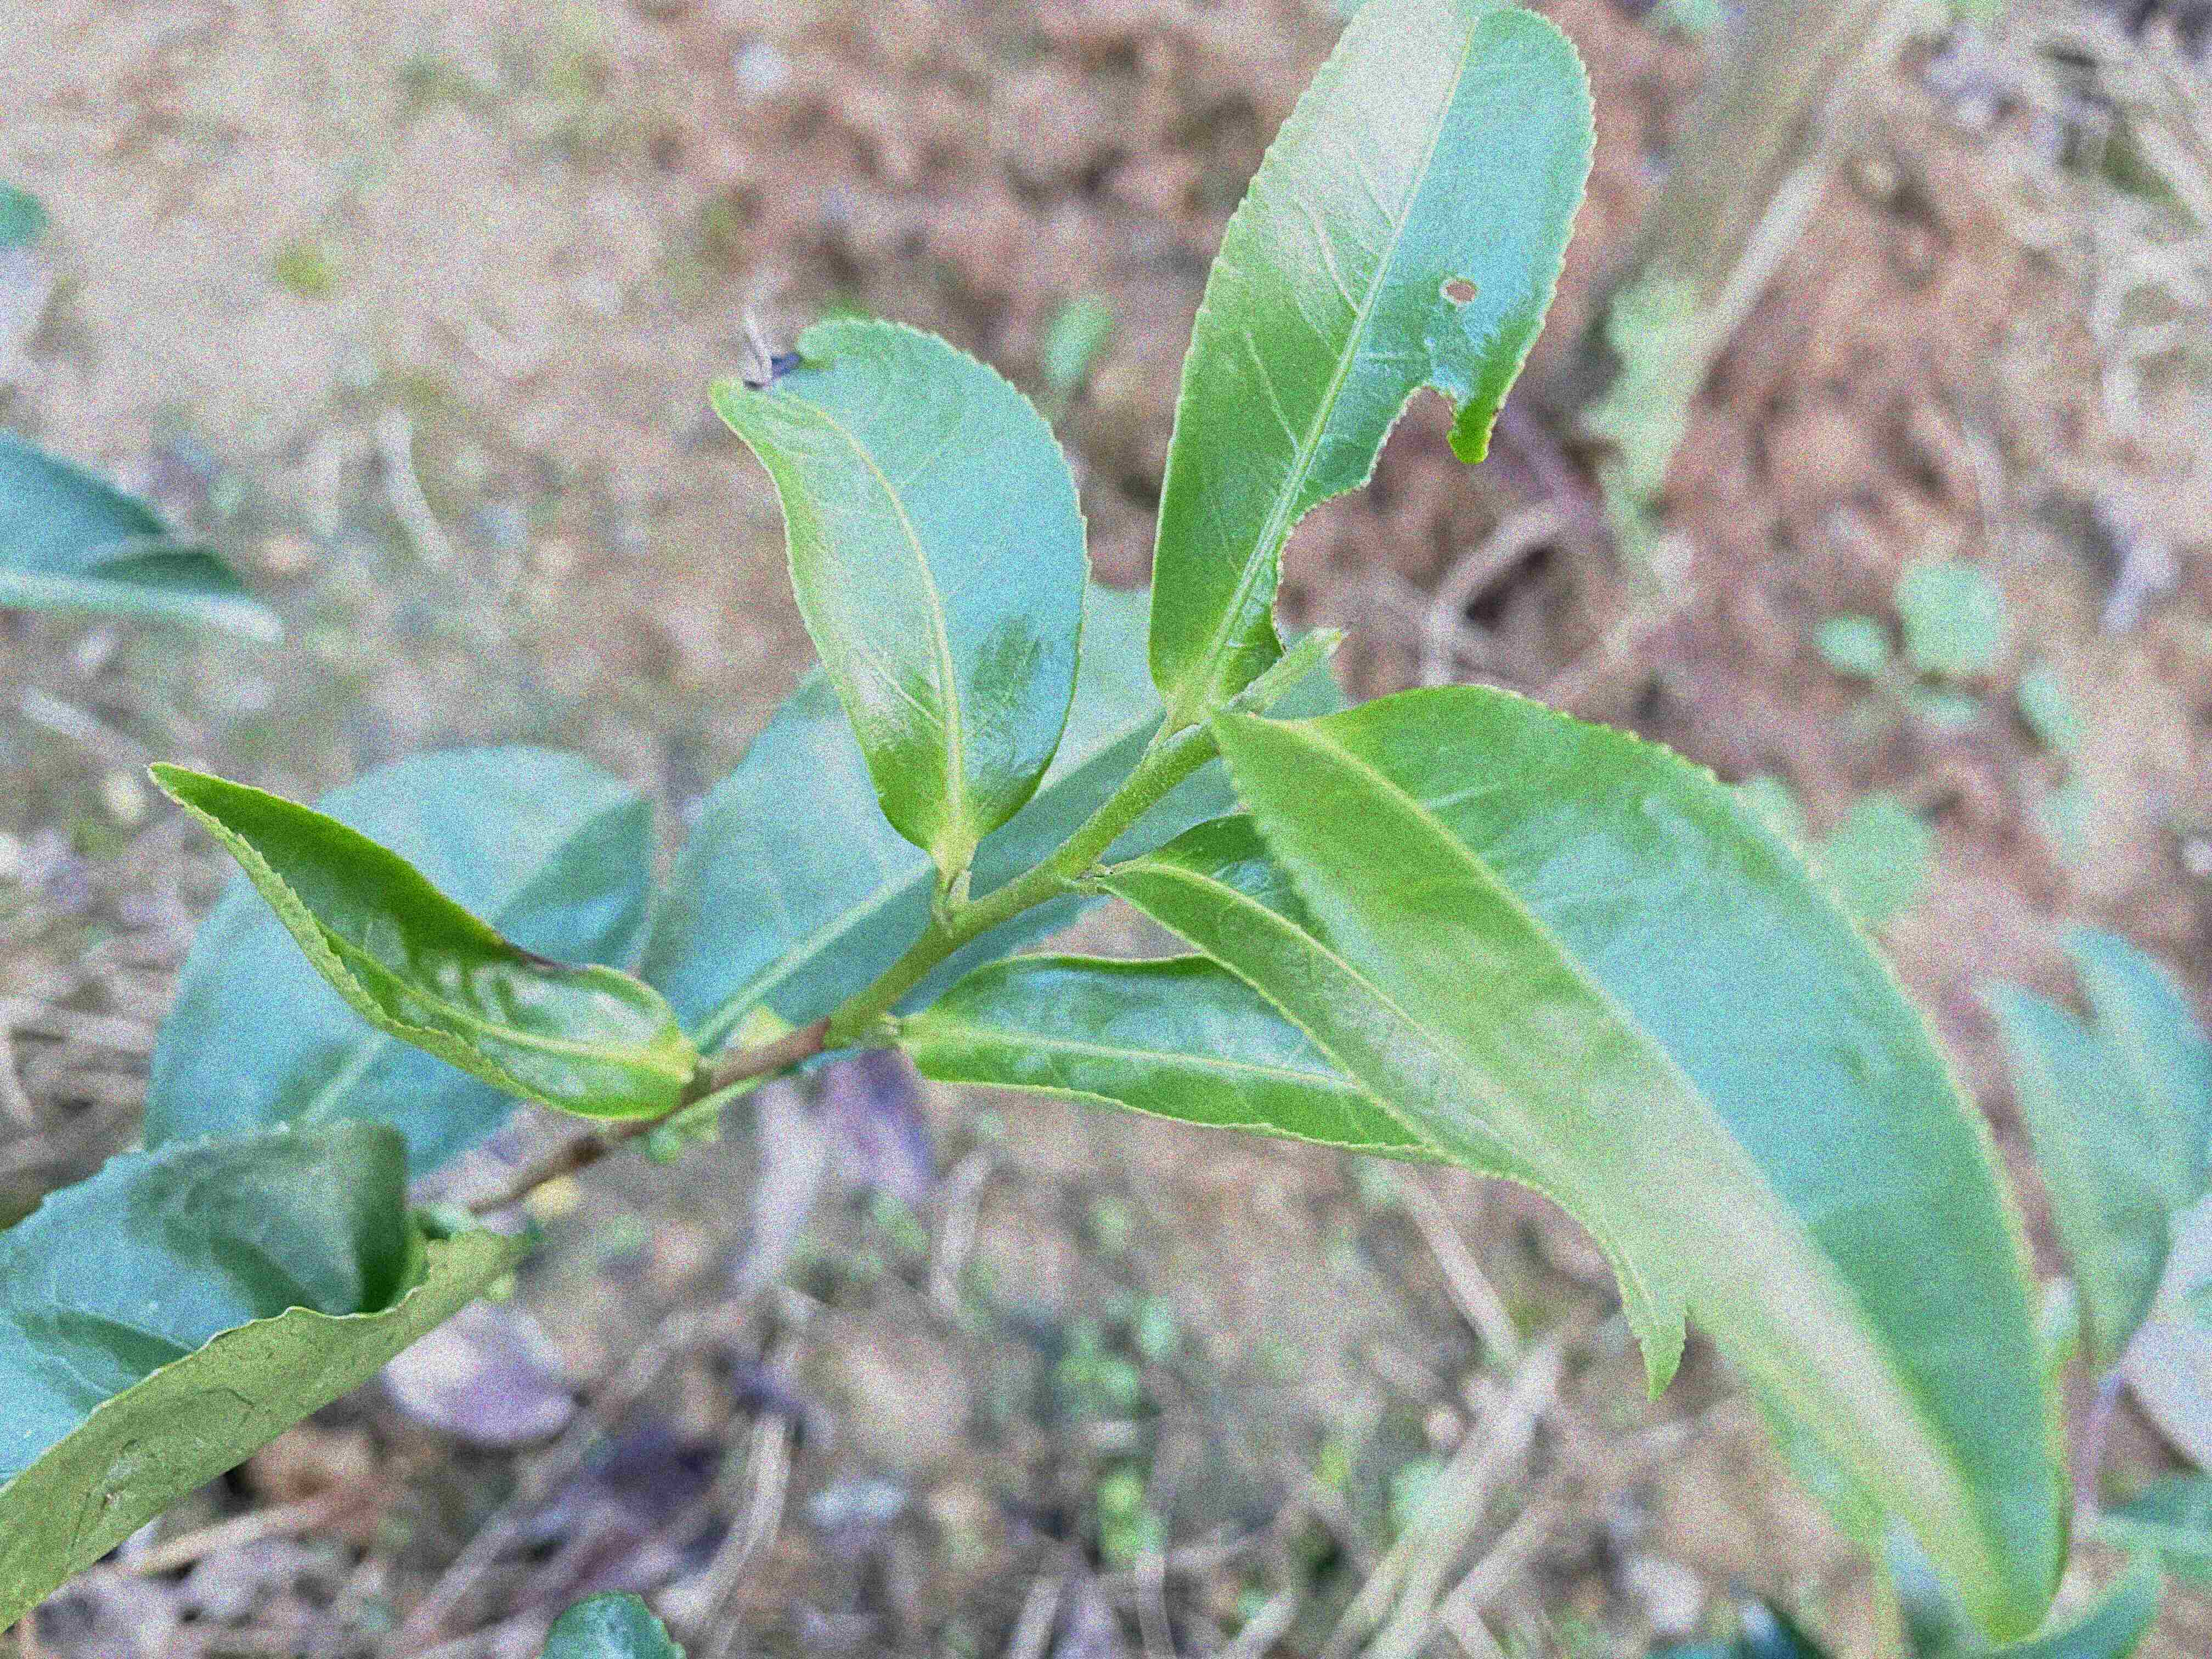chihuo_high: (1144, 2, 1595, 730)
tanju_low: (711, 315, 1092, 859), (148, 765, 690, 1119)
